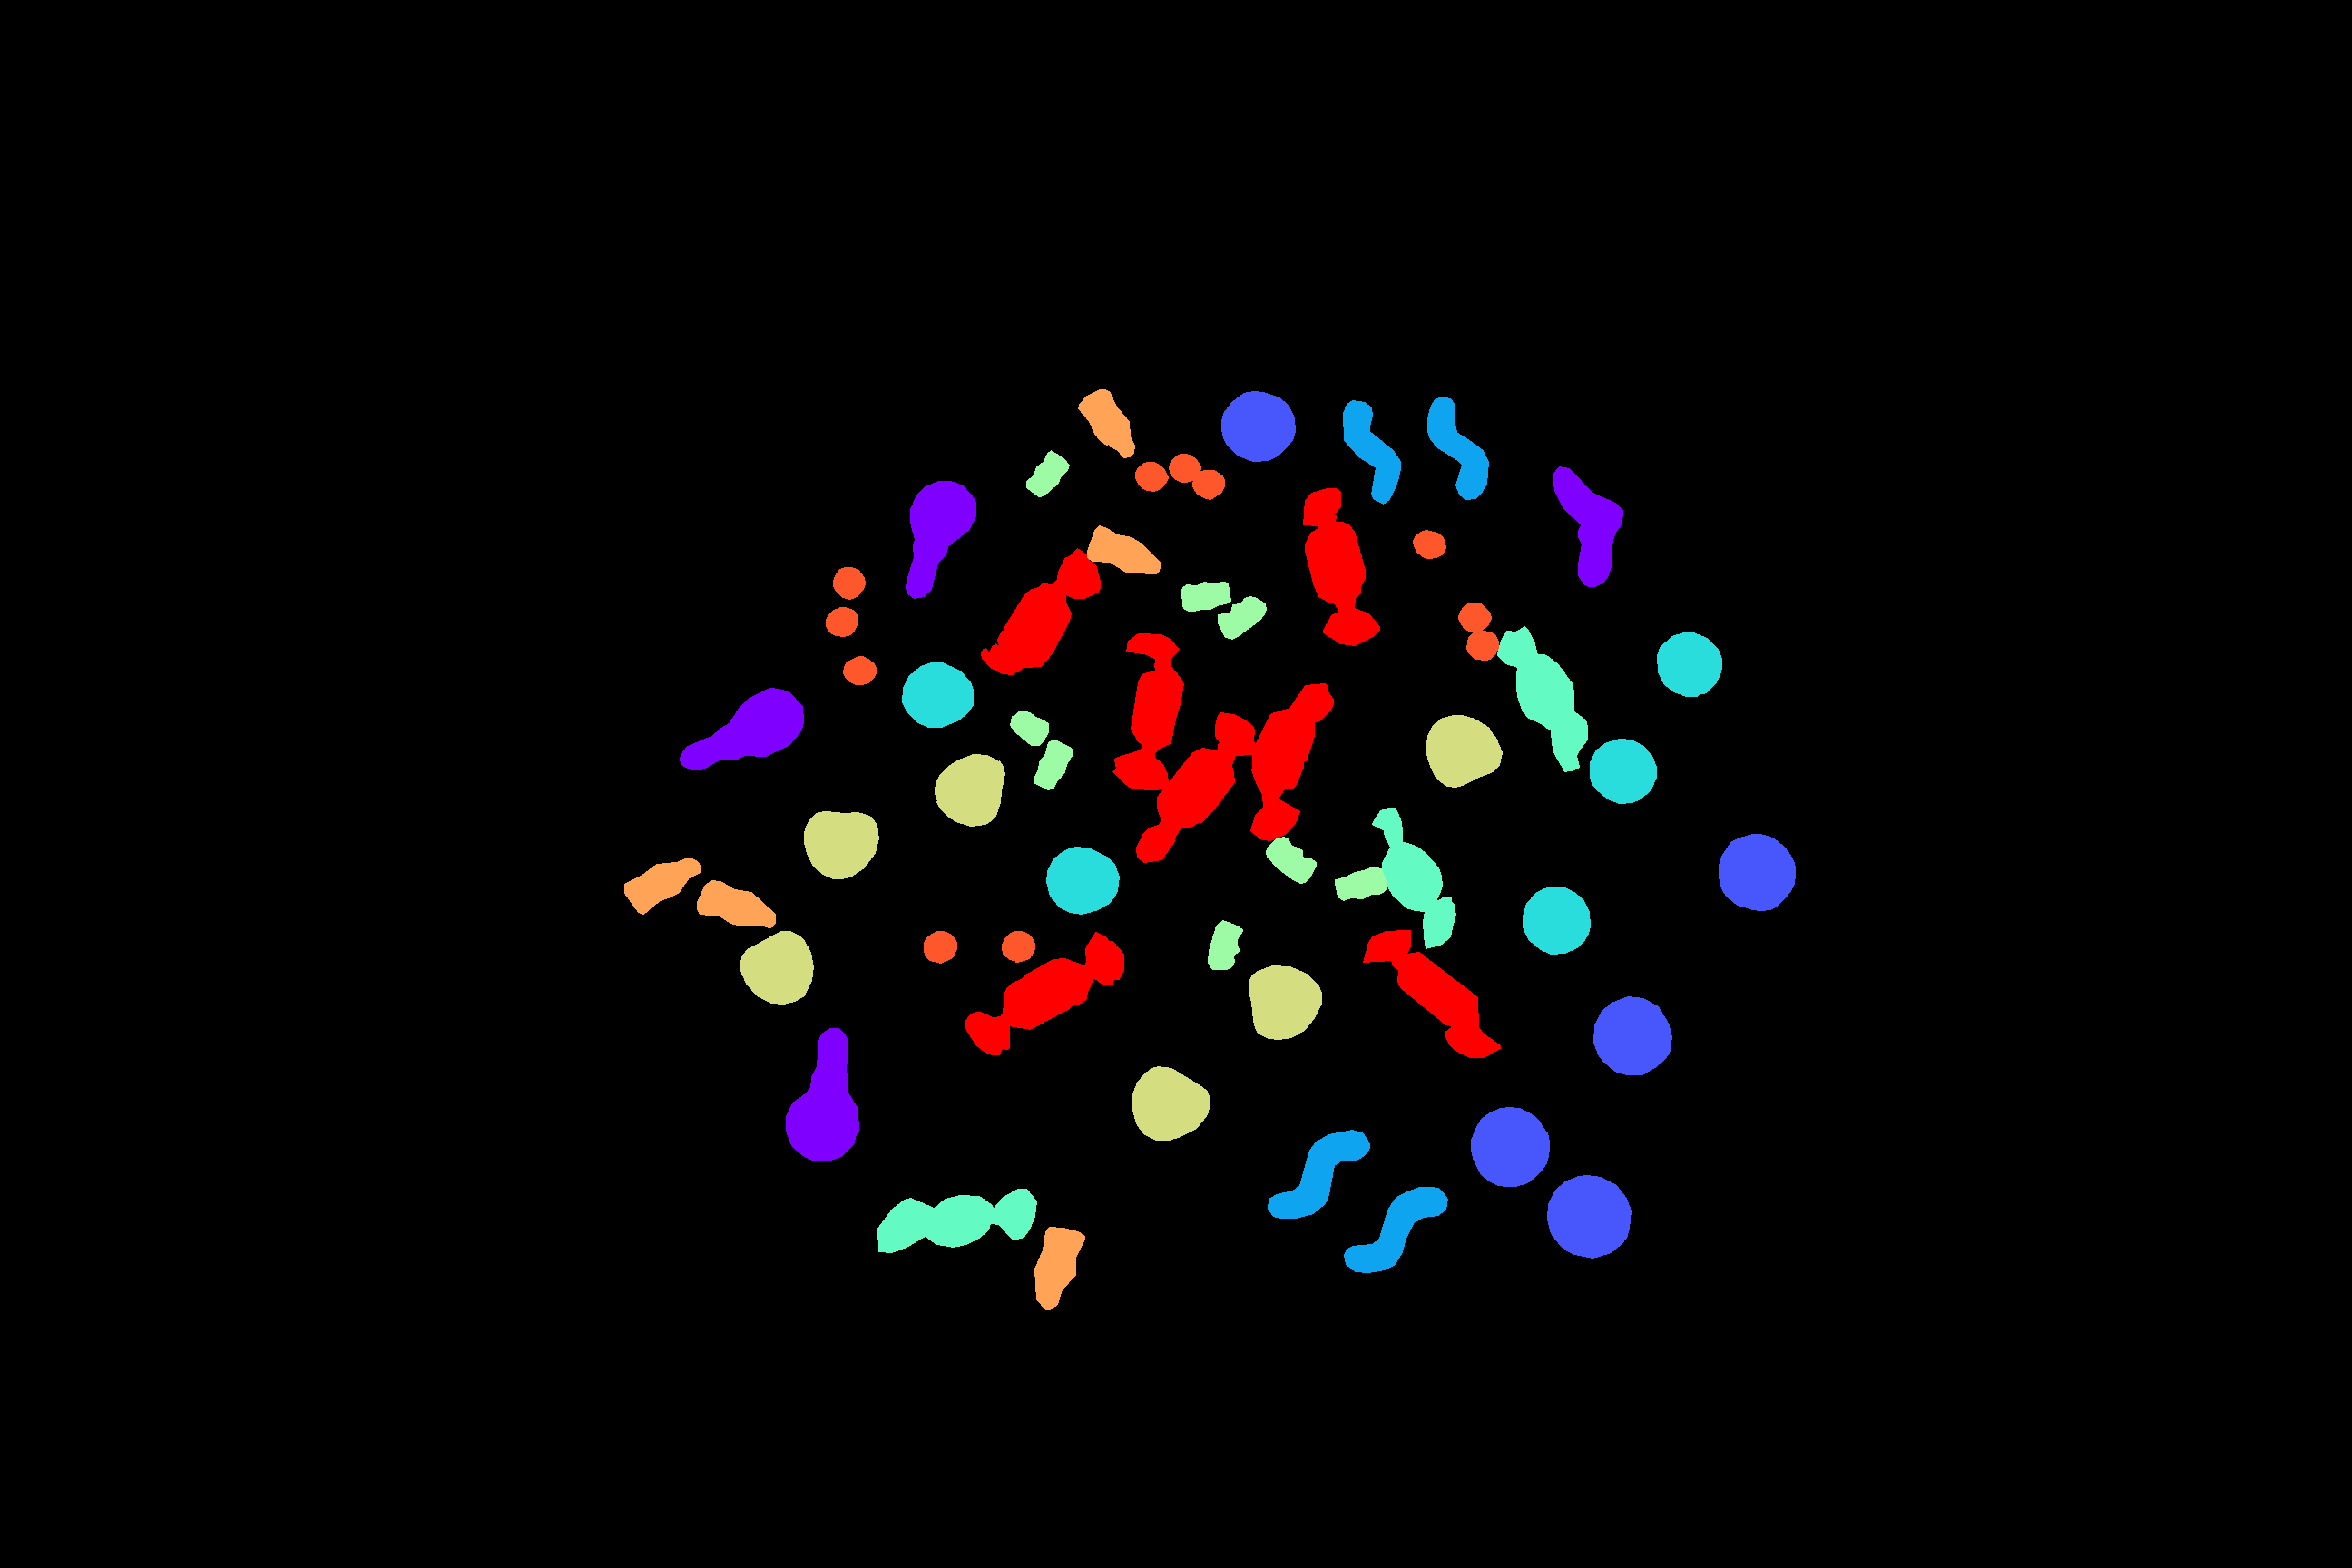apricot_jellies: (1132, 1066, 1209, 1139), (1426, 716, 1501, 788), (1249, 966, 1321, 1040), (740, 931, 814, 1003), (935, 754, 1004, 826), (803, 812, 878, 878)
bear: (1265, 837, 1316, 884), (1025, 450, 1069, 497), (1218, 597, 1265, 639), (1034, 740, 1073, 789), (1335, 866, 1388, 900), (1207, 920, 1242, 970), (1181, 581, 1230, 611), (1010, 710, 1048, 745)
coin_candy: (1547, 1174, 1631, 1258), (1594, 996, 1671, 1074), (1472, 1108, 1549, 1187), (1718, 835, 1796, 910), (1221, 390, 1295, 460)
cola bottle candies: (1034, 1227, 1085, 1309), (625, 859, 700, 914), (1078, 389, 1134, 457), (696, 880, 775, 927), (1087, 525, 1160, 574)
dummies: (679, 688, 803, 770), (786, 1027, 859, 1160), (1552, 467, 1622, 586), (905, 481, 975, 598)
riesen: (966, 933, 1123, 1055), (1136, 712, 1255, 863), (1363, 929, 1500, 1057), (982, 548, 1099, 674), (1251, 682, 1334, 840), (1304, 488, 1379, 646), (1113, 633, 1183, 789)
skittles: (924, 931, 957, 963), (1001, 931, 1034, 963), (833, 567, 865, 598), (1458, 602, 1491, 632), (1466, 630, 1498, 660), (1136, 462, 1167, 492), (1412, 530, 1445, 558), (1169, 453, 1200, 481), (1192, 471, 1223, 499), (826, 607, 857, 635), (843, 656, 875, 684)
sourworms: (1267, 1130, 1368, 1218), (1344, 1187, 1447, 1272), (1428, 397, 1487, 499), (1342, 401, 1400, 504)
tofifee: (1046, 847, 1118, 914), (901, 663, 973, 726), (1522, 887, 1589, 954), (1589, 738, 1656, 803), (1657, 632, 1722, 696)
vollmilch_brocken: (1498, 626, 1587, 772), (1372, 807, 1456, 948), (877, 1188, 1036, 1253)
